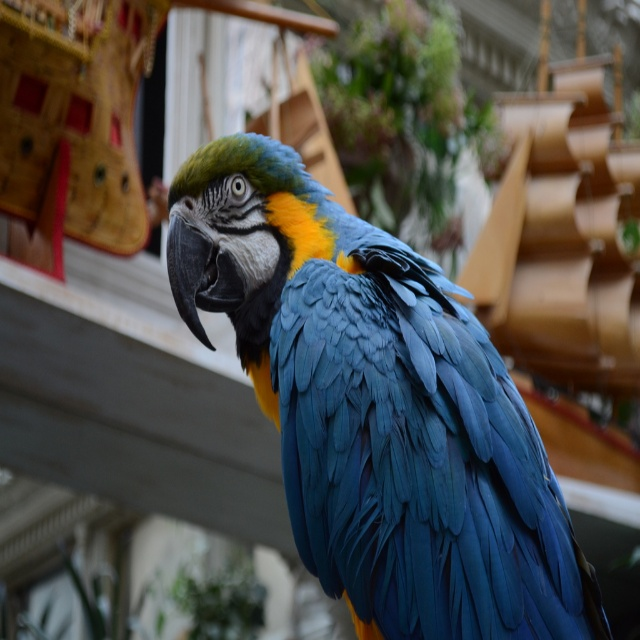Parrot: (168, 129, 613, 636)
